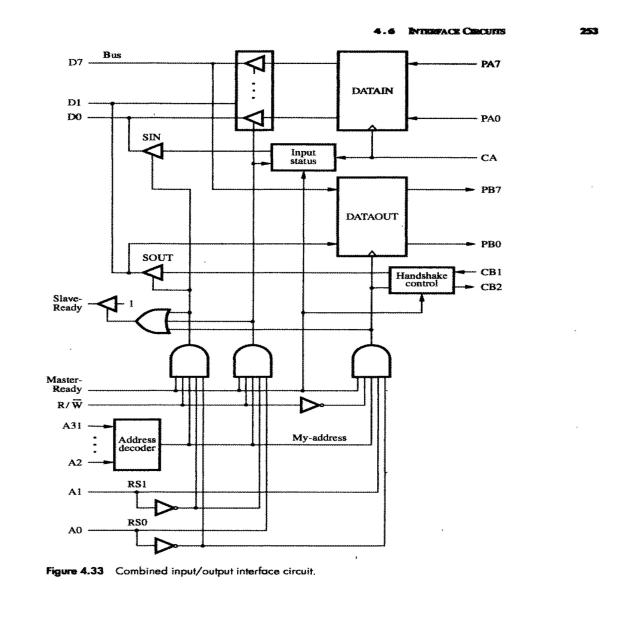diagram: (16, 4, 533, 604)
